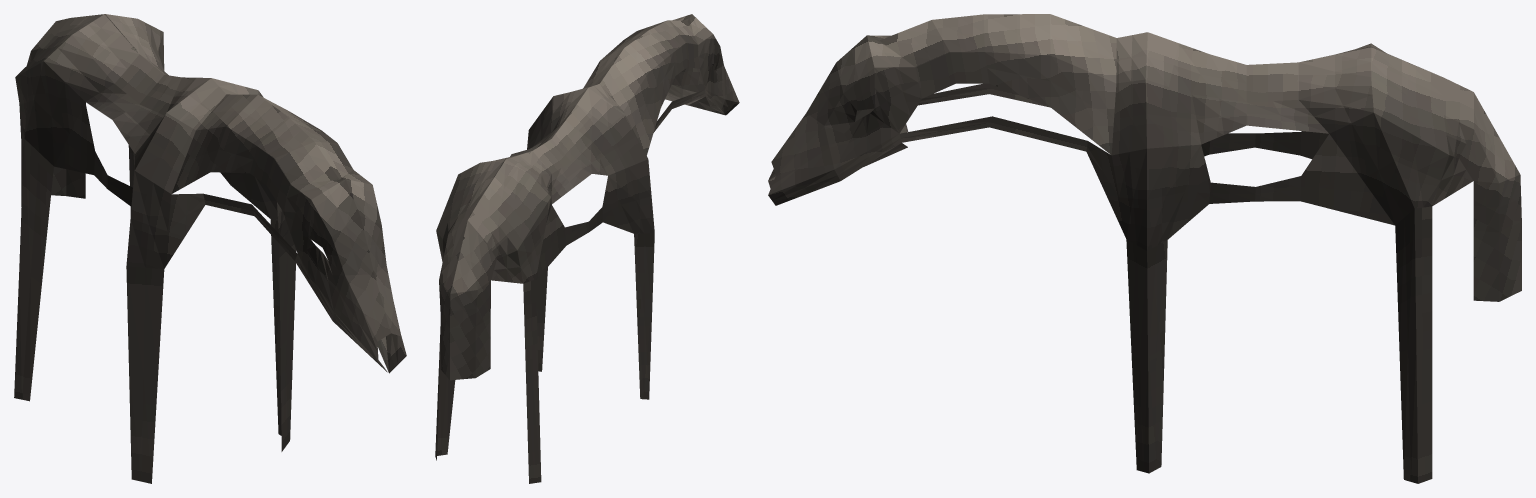
Rendered from Horse_Center.gltf.
The picture shows the model from 3 angles, left to right: view 1: azimuth 30°, elevation 25°; view 2: azimuth 150°, elevation 25°; view 3: azimuth 270°, elevation 25°; orthographic projection. The views are drawn at different scales.
Parts seen in each view (by area): view 1: Horse; view 2: Horse; view 3: Horse.
Boxes of the visible parts, <box> form: Horse: <box>14,14,406,483</box>; Horse: <box>435,14,739,483</box>; Horse: <box>768,14,1521,483</box>.
Bounding box in the file's own units: 6.74 × 15.66 × 24.56.
Materials: 1 (1 with a texture image).
